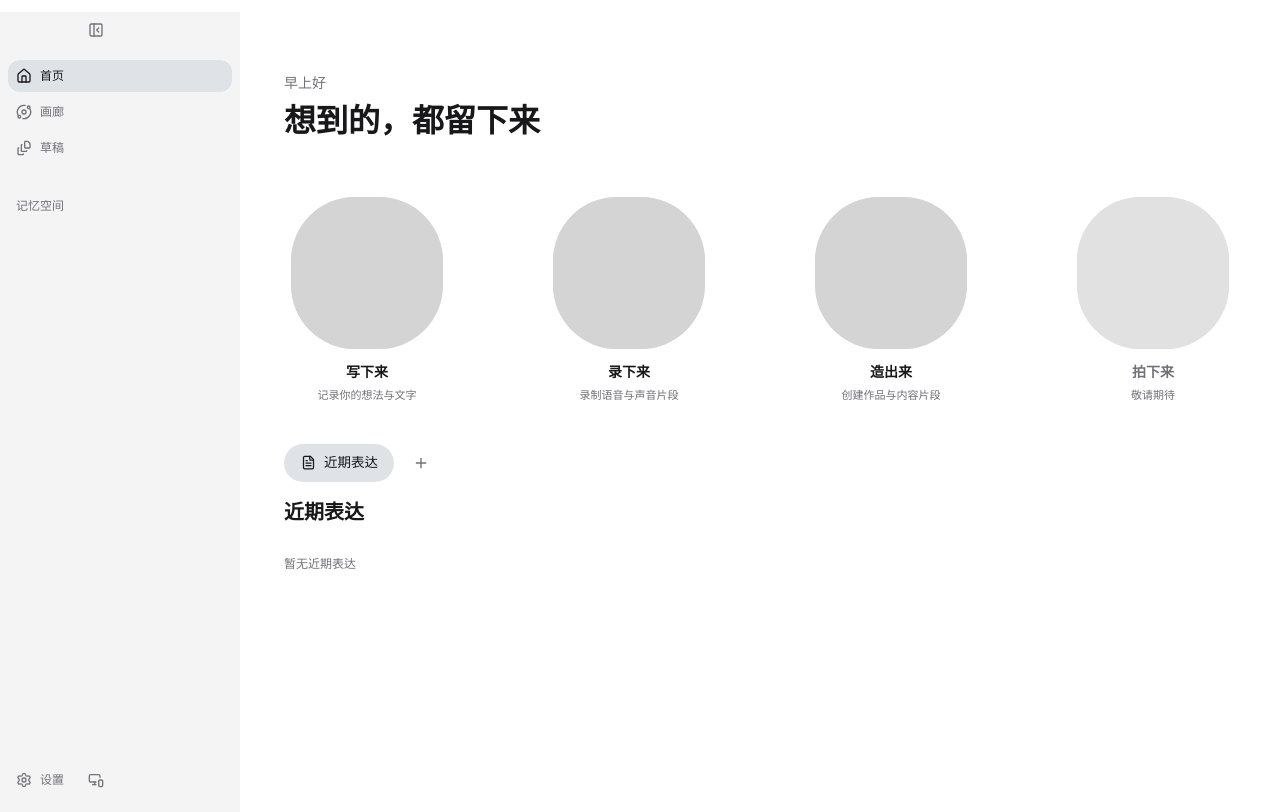
Scenario: App › opens voice settings in the same app window and returns to the app
Click the button "设置" at (40, 780), box [8,764,72,796]
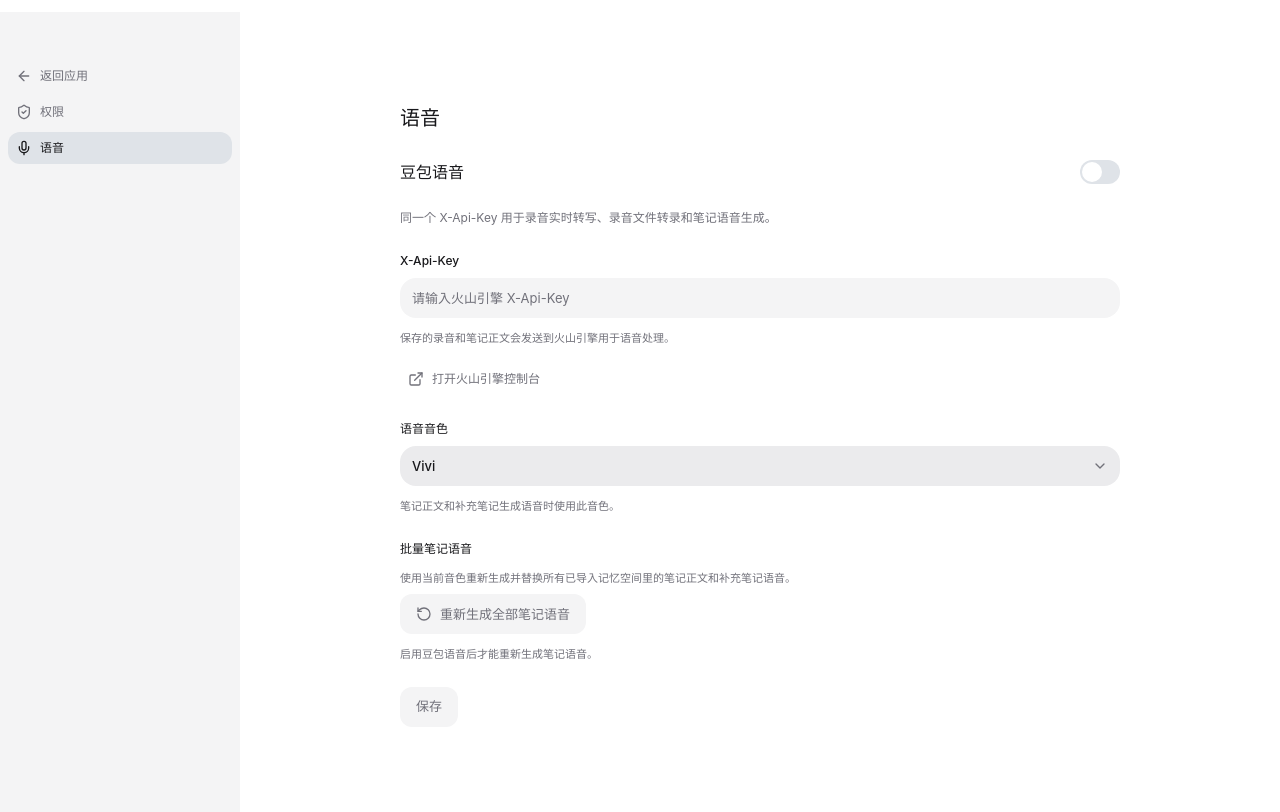
Now the element named "语音设置" is shown, box [400,106,1120,727]
Now the heading "语音" is shown, box [400,106,440,130]
Now the switch named "启用豆包语音" is shown, box [1080,160,1120,184]
Click the button "返回应用" at (120, 76), box [8,60,232,92]
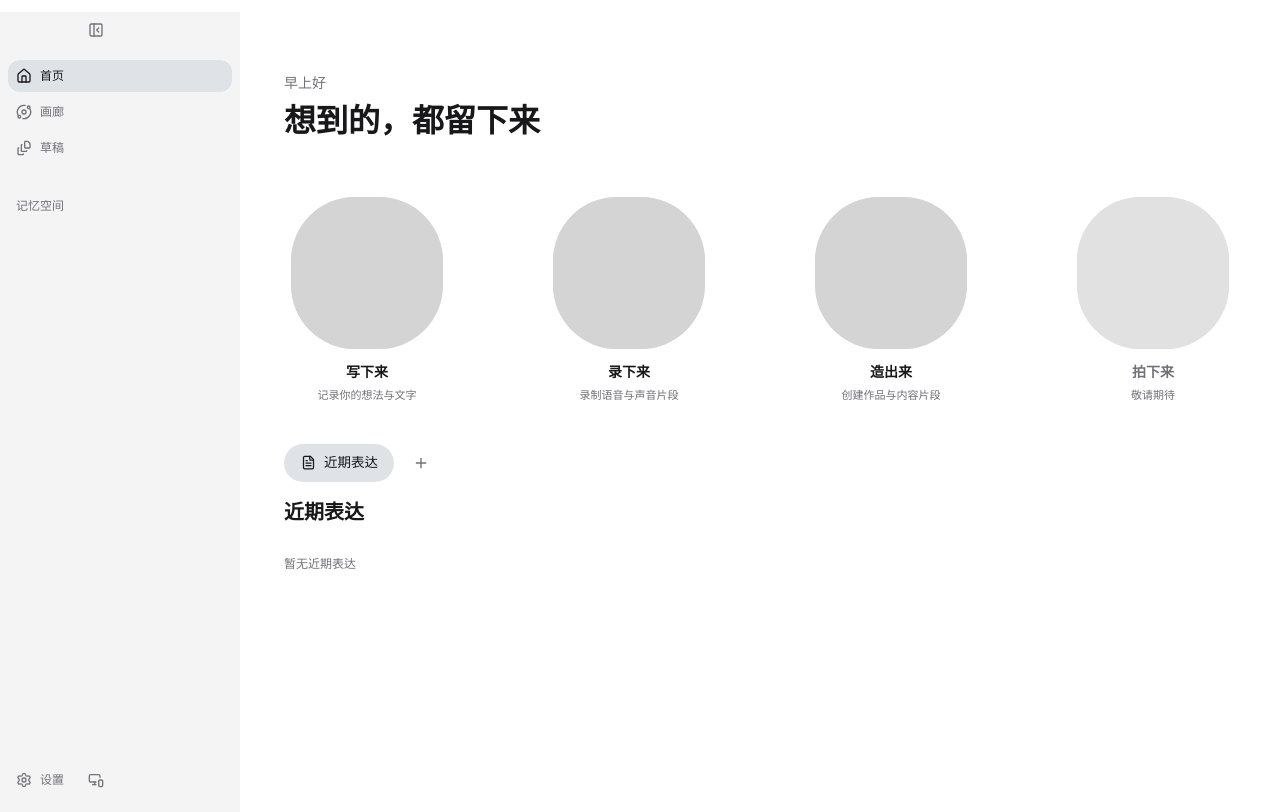
Now the element named "首页" is shown
Now the element "语音设置" is gone
